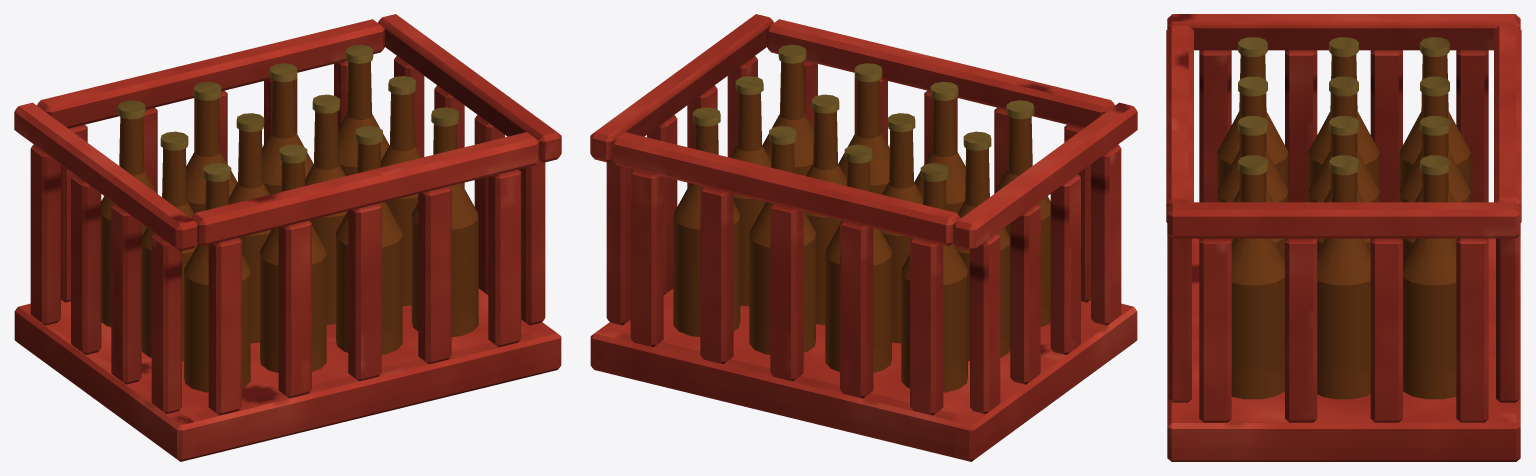
The model's file is beer_crate.glb.
3 renders of one model, left to right at view 1: azimuth 30°, elevation 25°; view 2: azimuth 150°, elevation 25°; view 3: azimuth 270°, elevation 25°, orthographic. The views are drawn at different scales.
Visible parts, largest first — view 1: beer_crate; view 2: beer_crate; view 3: beer_crate.
Part boxes in pixels (bbox=[...]): beer_crate: bbox=[14, 14, 561, 461]; beer_crate: bbox=[590, 14, 1137, 461]; beer_crate: bbox=[1166, 14, 1521, 461].
Size of the model in its own units: 0.442 by 0.27 by 0.332.
Materials: 3 (2 with a texture image).
